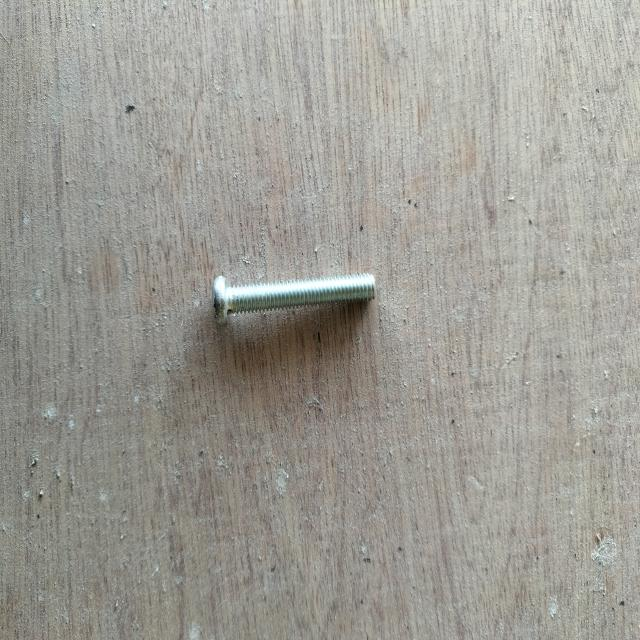bolt: (212, 275, 375, 324)
